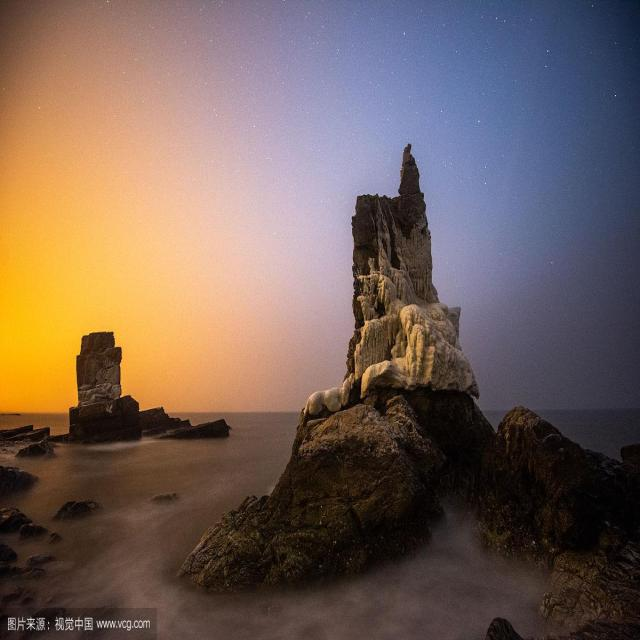reef: (55, 303, 229, 436)
